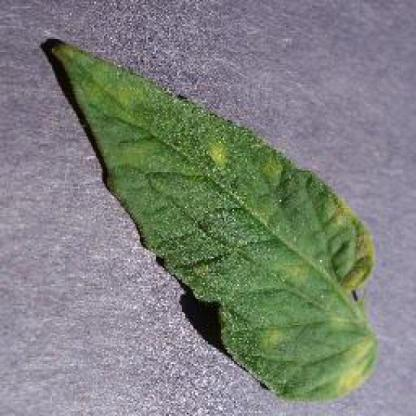Strawberry_Anthracnose_Fruit_Rot: (106, 75, 162, 133), (340, 335, 377, 398), (347, 224, 382, 290), (200, 134, 236, 181)
